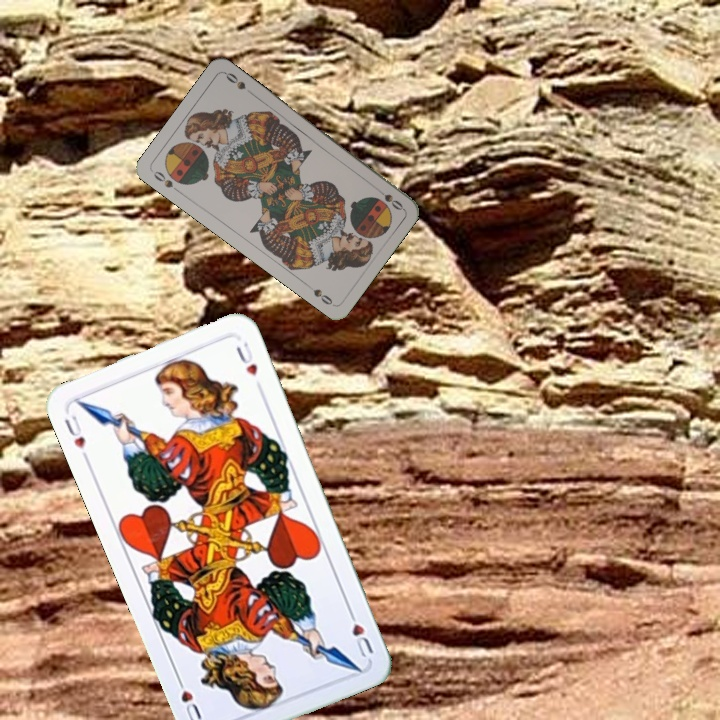HU: (343, 604, 376, 660), (60, 411, 88, 451)
SO: (371, 183, 406, 213), (149, 167, 183, 196)
